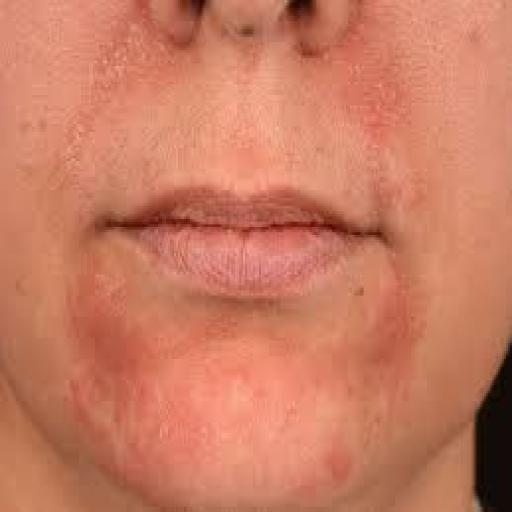Skin_Lesion: (84, 368, 169, 435), (370, 293, 423, 372), (352, 60, 398, 128), (65, 294, 117, 351)
